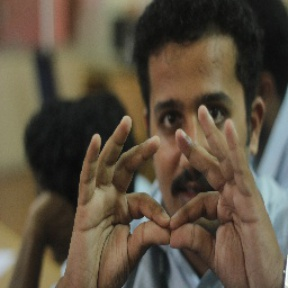B: (104, 177, 230, 270)
